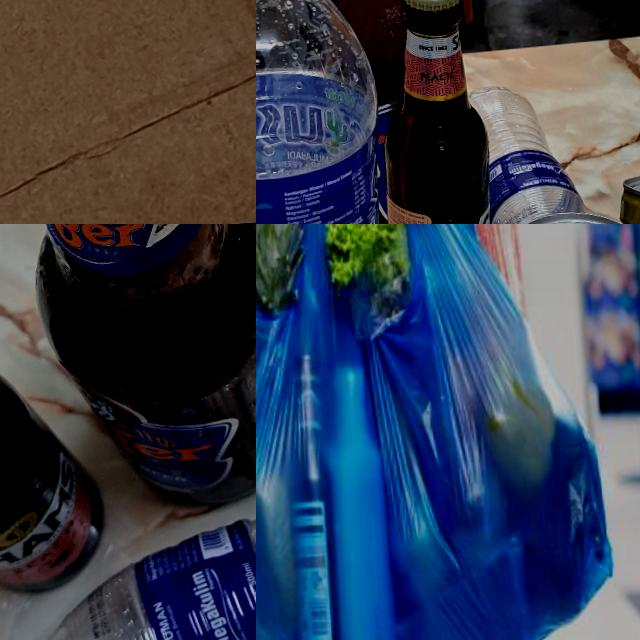garrafa de vidro: (0, 224, 256, 514), (366, 0, 501, 224), (0, 342, 107, 596), (325, 0, 439, 111)
garrafa plástica: (0, 429, 256, 640), (256, 0, 397, 224), (468, 76, 589, 224)
papelão: (0, 0, 256, 224)
sacola plástica: (326, 224, 625, 640), (256, 224, 420, 640)
